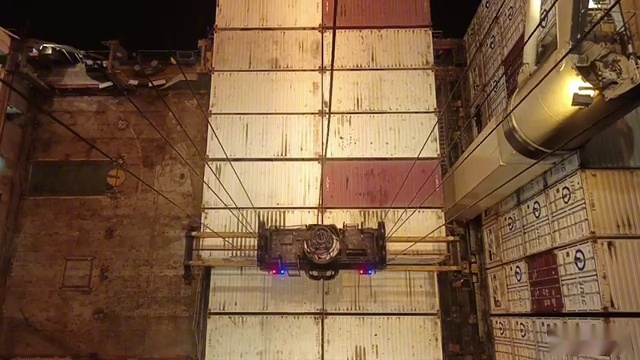container: (201, 207, 444, 265), (207, 312, 446, 360), (206, 160, 444, 207), (208, 114, 436, 161), (207, 270, 442, 315), (209, 70, 435, 116), (201, 350, 444, 359)
guide_mark: (65, 347, 560, 360), (112, 356, 545, 360)
spreader: (177, 218, 467, 287)
target_slot: (197, 207, 456, 271)
